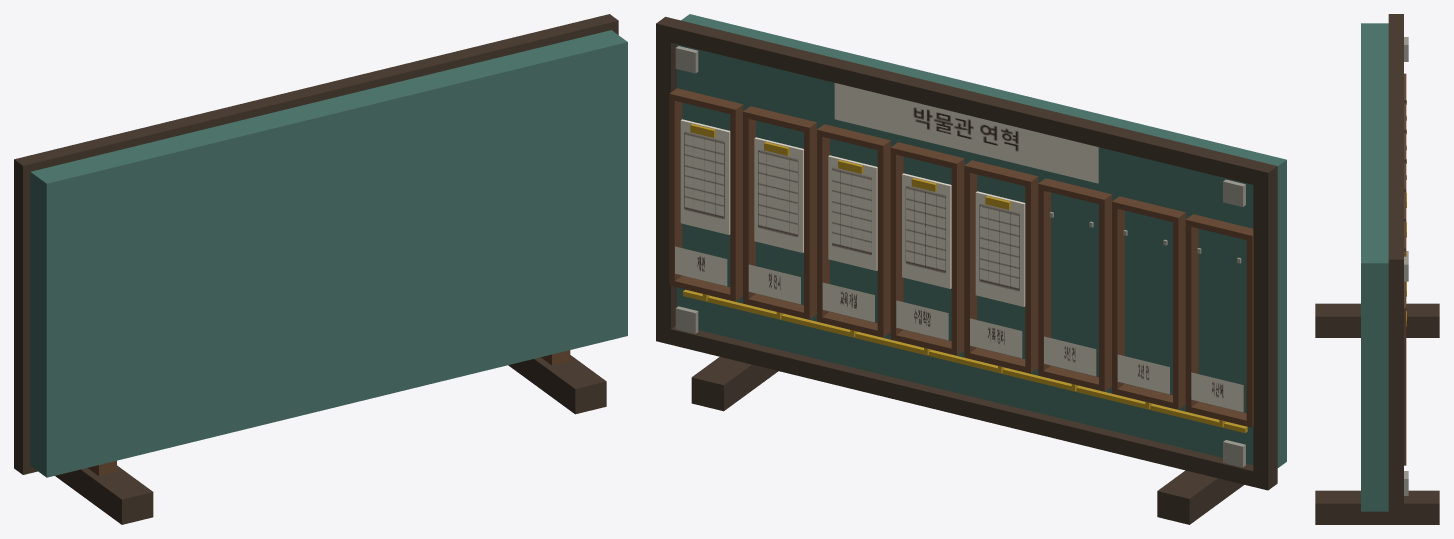
File: S05_Museum_History_Wall.fbx
3 views of the same model, side by side, from view 1: azimuth 30°, elevation 25°; view 2: azimuth 150°, elevation 25°; view 3: azimuth 270°, elevation 25° (orthographic). The views are drawn at different scales.
Visible parts, largest first — view 1: Structure; view 2: Structure, Panel_01, Panel_05, Panel_02, Panel_04, Panel_03, Panel_07, Panel_08, Panel_06; view 3: Structure.
Boxes of the visible parts, x1=… form: Structure: x1=14, y1=14, x2=627, y2=524; Structure: x1=656, y1=14, x2=1286, y2=524; Panel_01: x1=675, y1=119, x2=730, y2=286; Panel_05: x1=970, y1=191, x2=1025, y2=358; Panel_02: x1=748, y1=137, x2=803, y2=304; Panel_04: x1=896, y1=173, x2=951, y2=340; Panel_03: x1=822, y1=155, x2=877, y2=322; Panel_07: x1=1117, y1=230, x2=1169, y2=394; Panel_08: x1=1191, y1=248, x2=1243, y2=412; Panel_06: x1=1044, y1=212, x2=1096, y2=376; Structure: x1=1315, y1=14, x2=1439, y2=524.
Size of the model in its own units: 4.92 by 2.69 by 1.05.
Materials: 7 (1 with a texture image).
